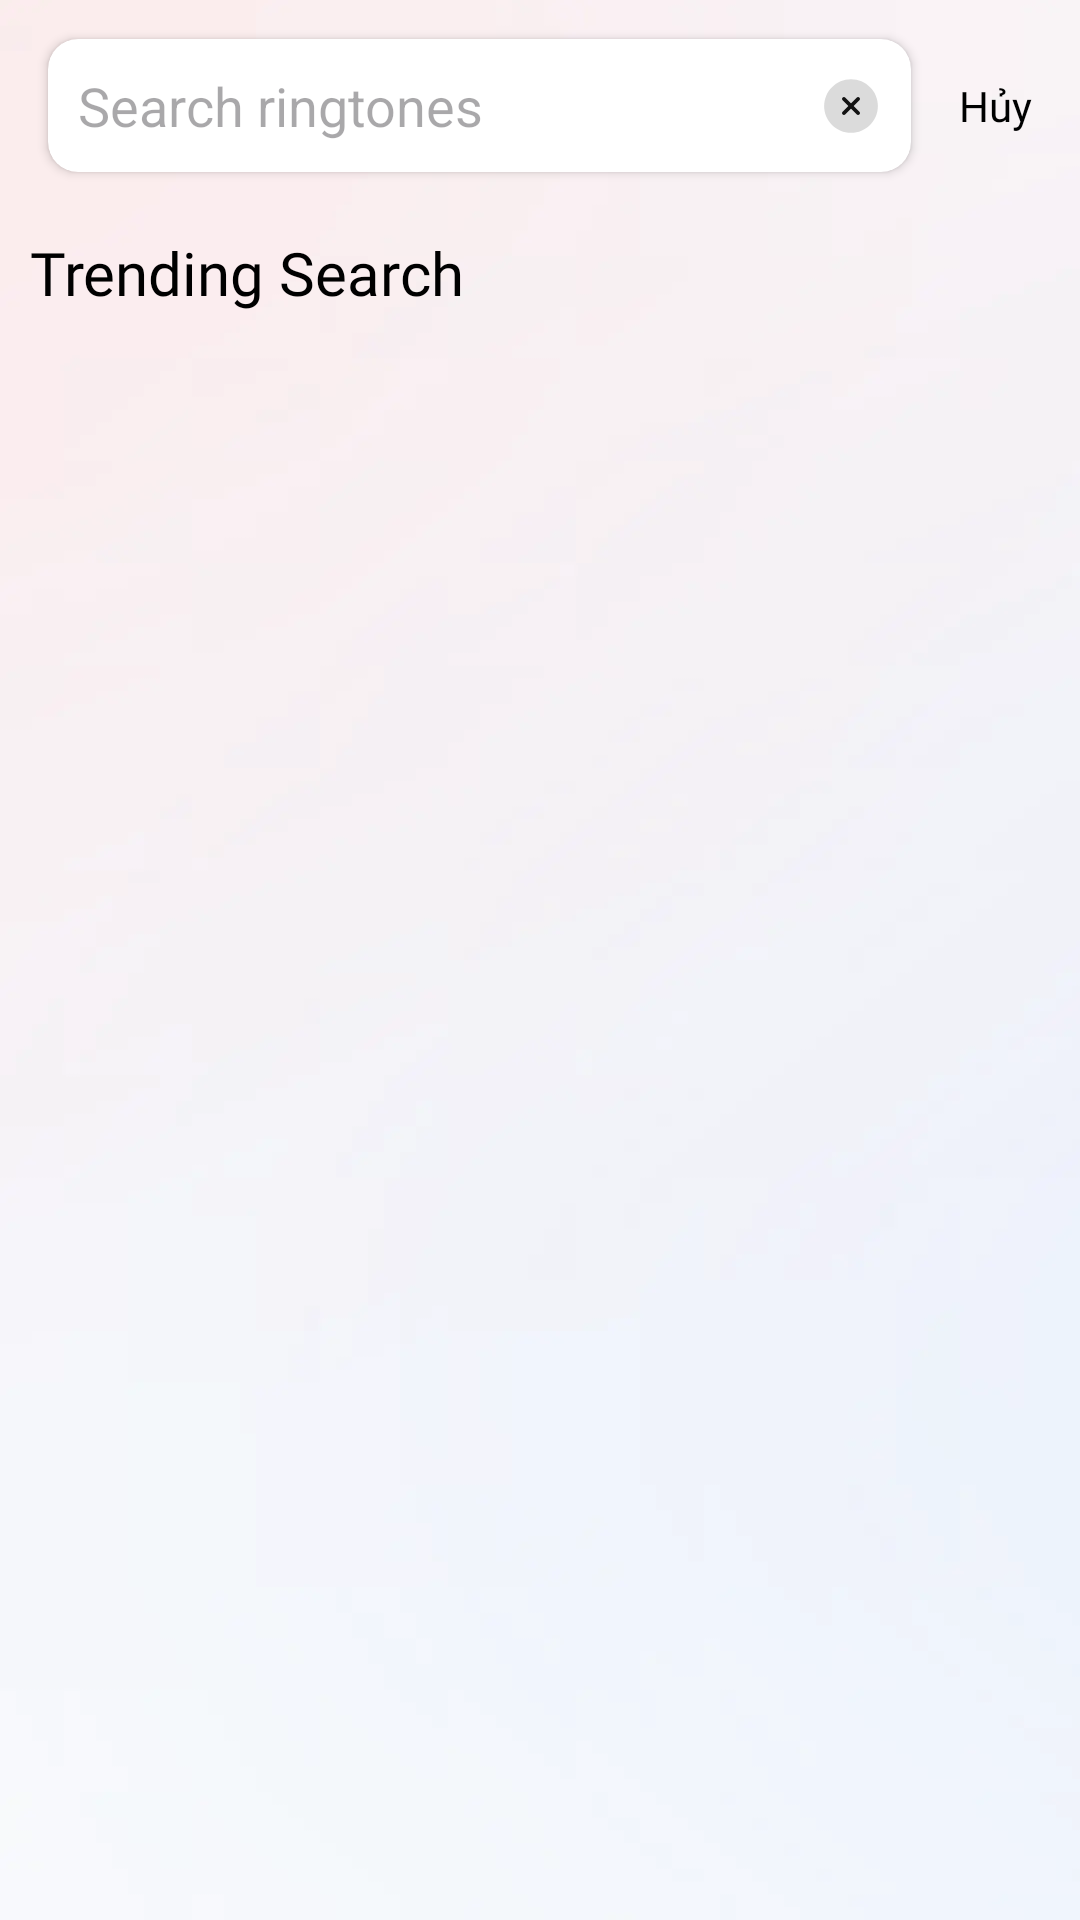

Icons on this 1080 x 1920 Android screen, each with the point to tap as (x,y):
close search: (851,106)
